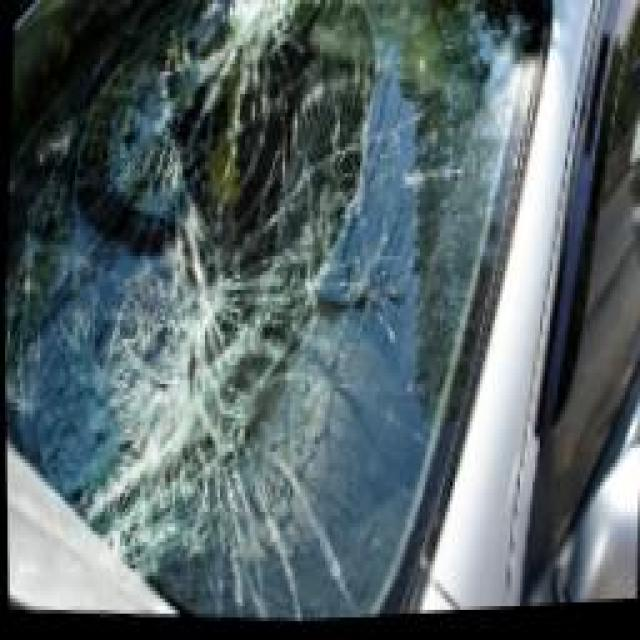Windshield: (0, 0, 549, 602)
